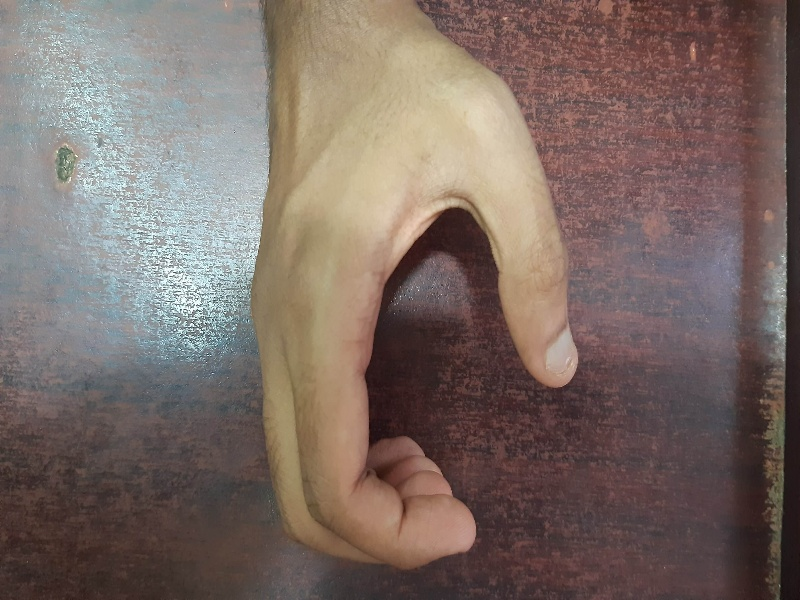one: (233, 40, 593, 578)
